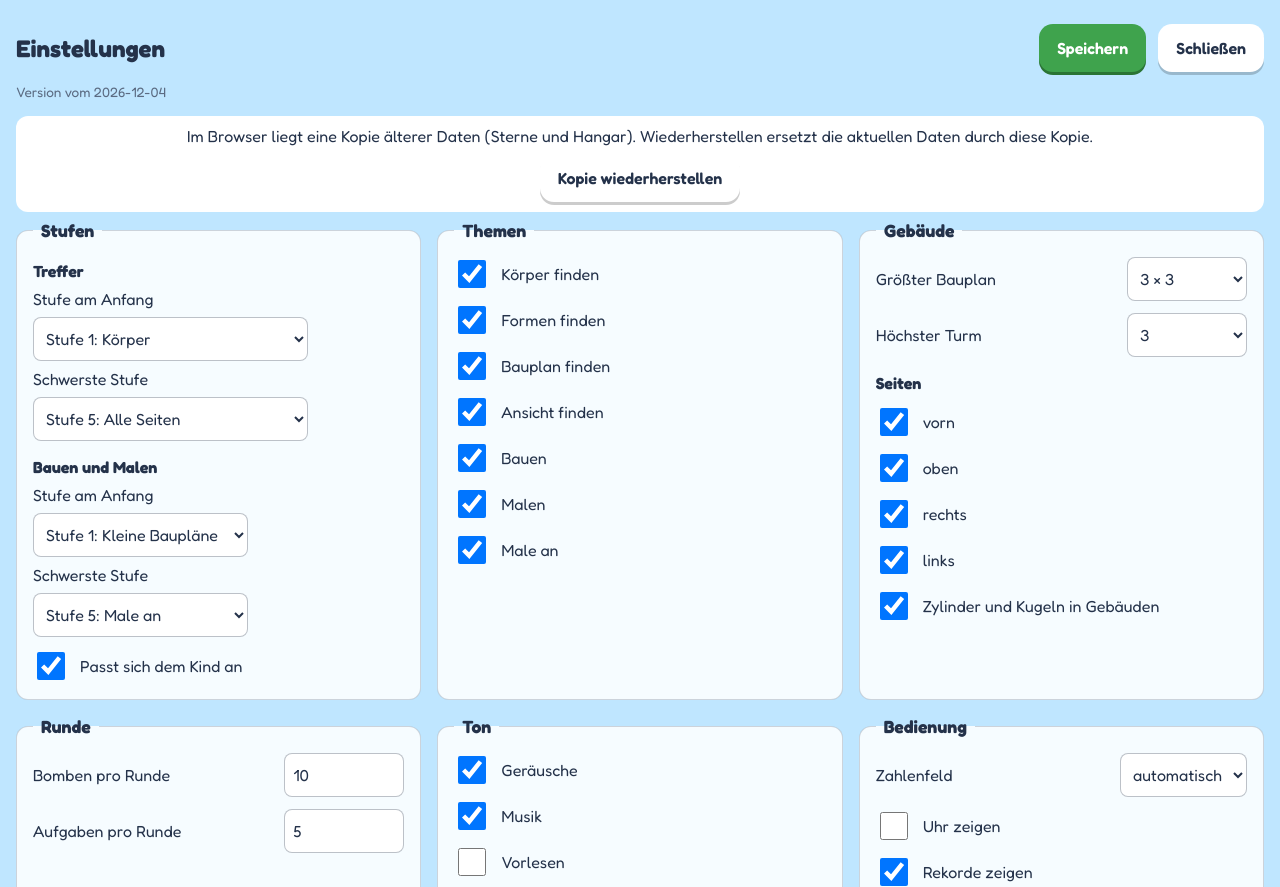
Scenario: SettingsPage: kept copies › shows a notice and changes nothing when the restore cannot be saved
Step 1. Click the button "Kopie wiederherstellen" → (640, 178), box [540,154,740,202]
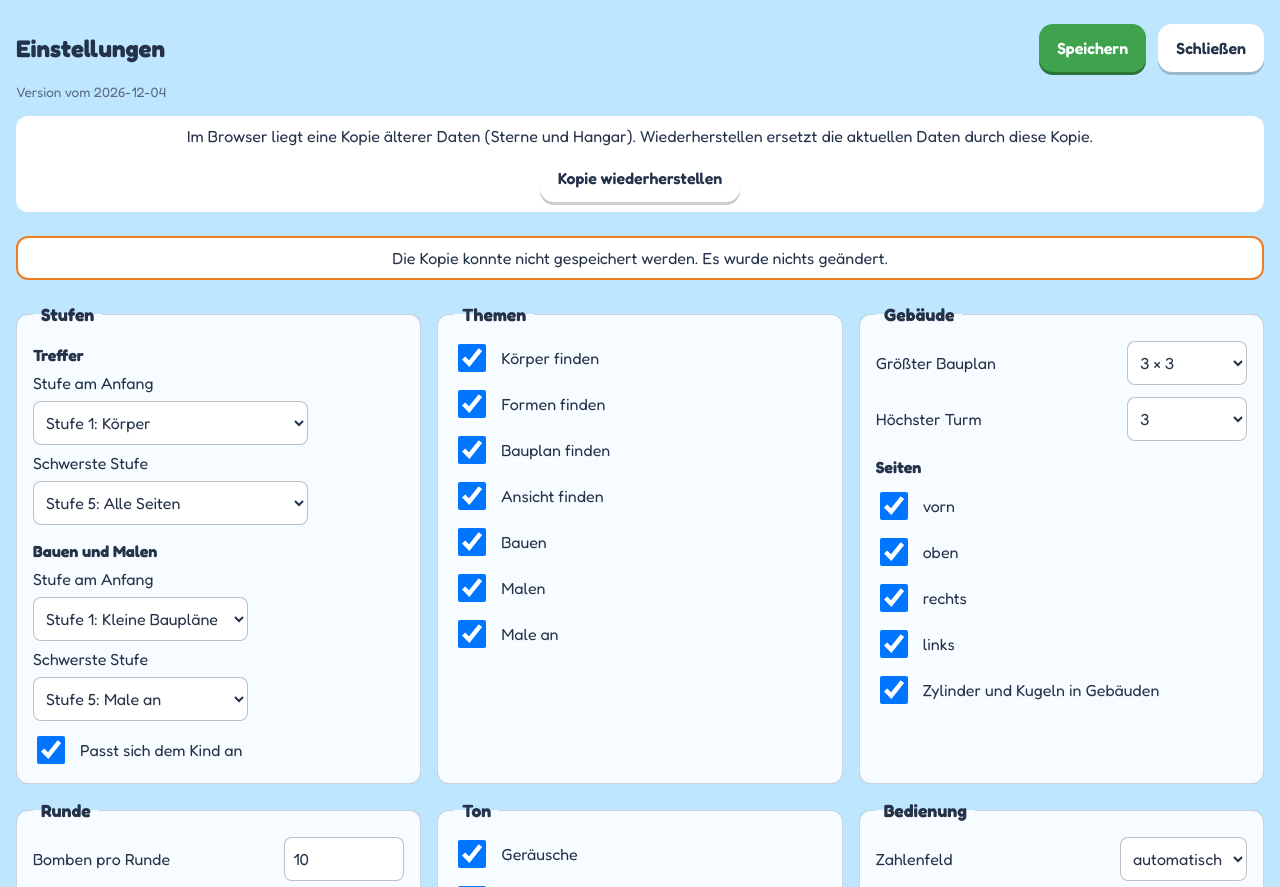
Expected: the text "Die Kopie konnte nicht gespeichert werden. Es wurde nichts geändert." is shown, [16,236,1264,280]
